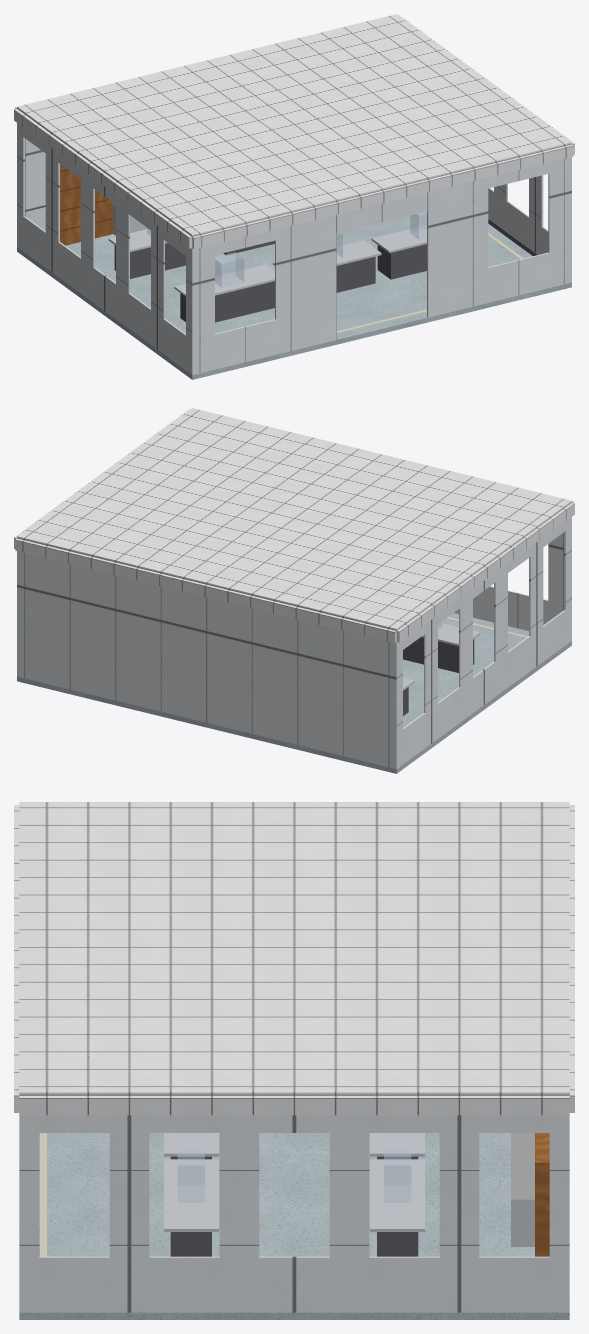
Rendered from spaces-int-lab.glb.
The picture shows the model from 3 angles, top to bottom: view 1: azimuth 30°, elevation 25°; view 2: azimuth 150°, elevation 25°; view 3: azimuth 270°, elevation 25°; orthographic projection. The views are drawn at different scales.
Parts seen in each view (by area): view 1: lab interior; view 2: lab interior; view 3: lab interior.
Boxes of the visible parts, left/top/right/bottom form: lab interior: left=14, top=14, right=574, bottom=379; lab interior: left=14, top=408, right=574, bottom=773; lab interior: left=14, top=802, right=574, bottom=1319.
Size of the model in its own units: 10.16 by 3.65 by 8.16.
Materials: 11 (4 with a texture image).
